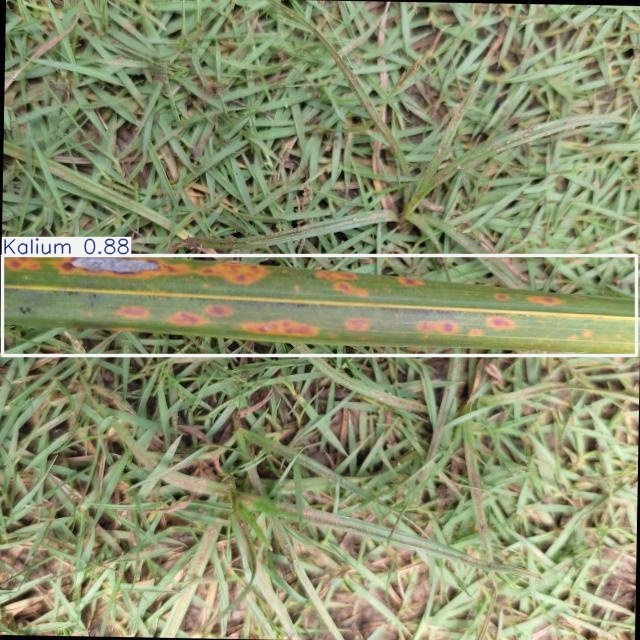Kalium: (2, 255, 637, 355)
